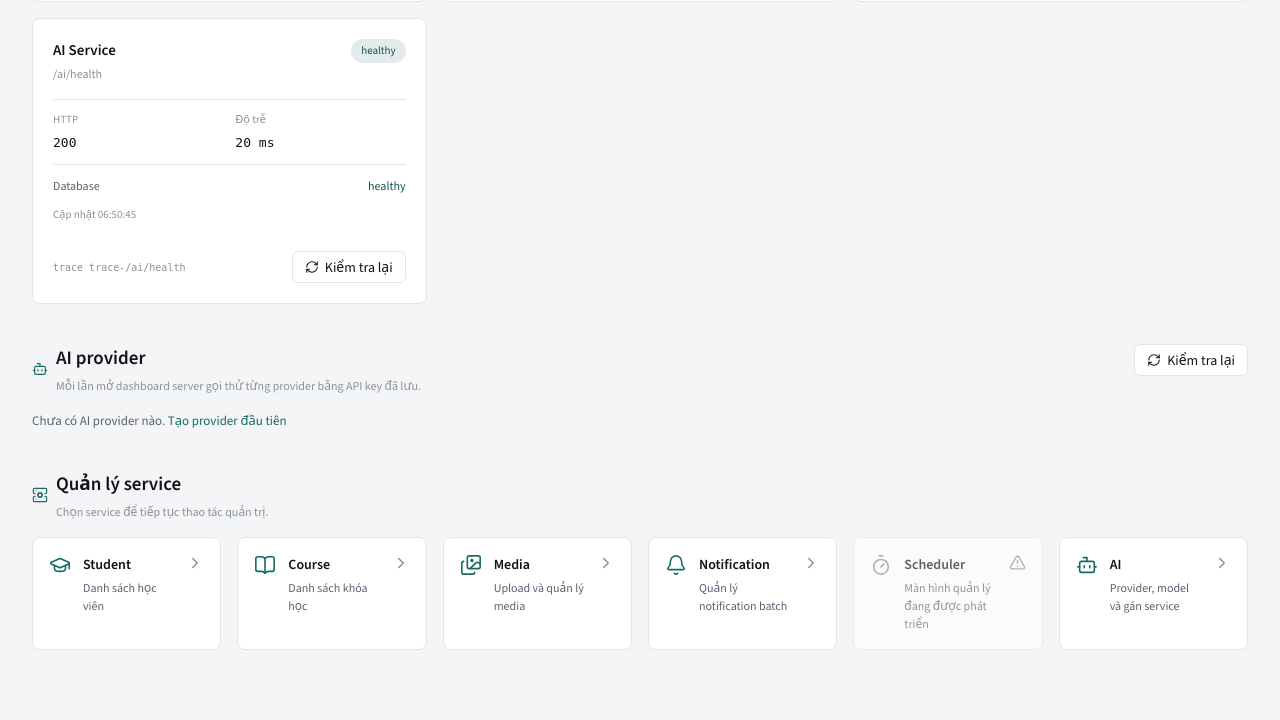
AdminDashboardPage › shows an error and an empty hint for the AI provider list without breaking the rest
The image size is (1280, 720).
(page scrolled)
Expected: the text "Chưa có AI provider nào. Tạo provider đầu tiên" is shown, [32,412,286,428]
Click the 2nd button "Kiểm tra lại".
click(1191, 360)  # box [1134,344,1248,376]
(page scrolled)
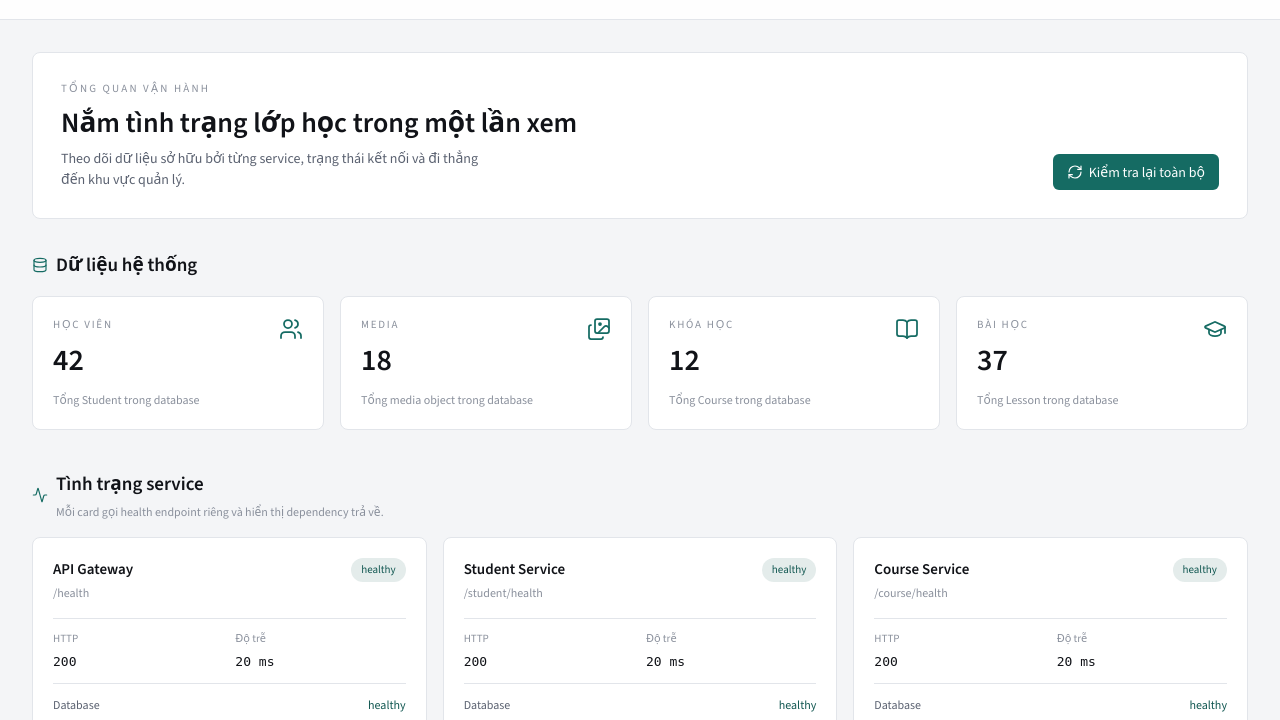
Result: the text "42" is shown at [53,340,84,380]
